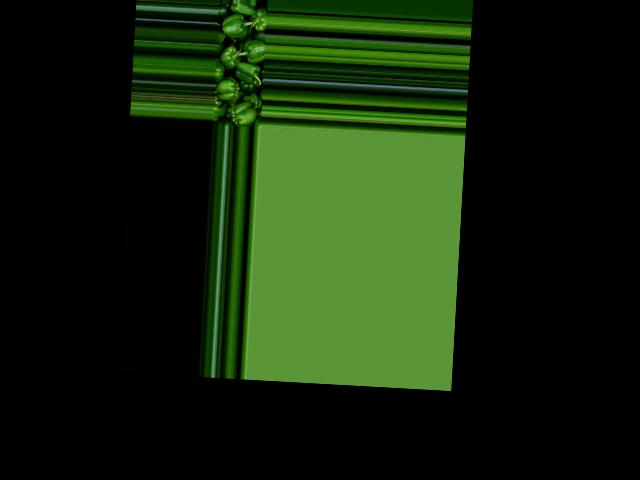bell_pepper: (212, 3, 266, 127)
